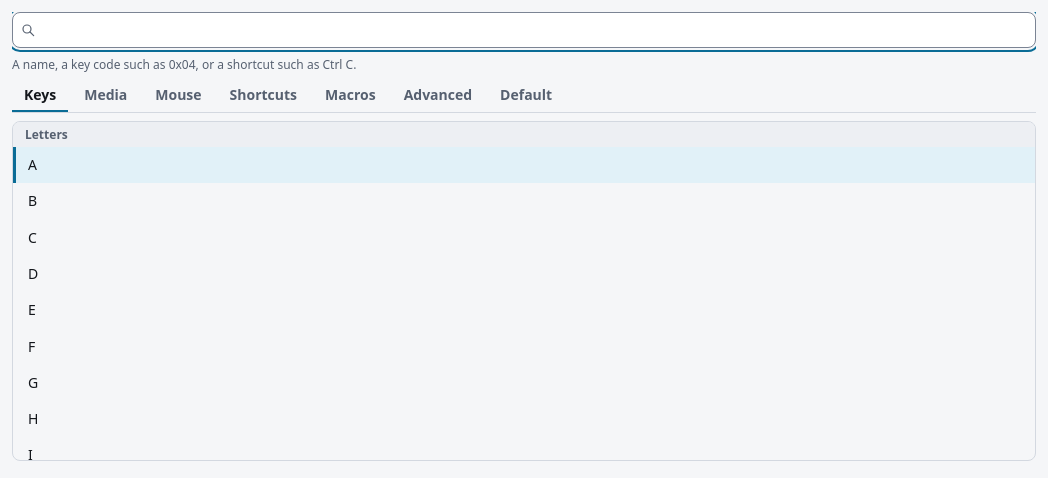
Test case: the action picker › marks advanced keys on the Fn layer as not yet verified (the binding rule)
Step 1. Click the tab "Advanced" → (438, 97), box [392,81,484,112]
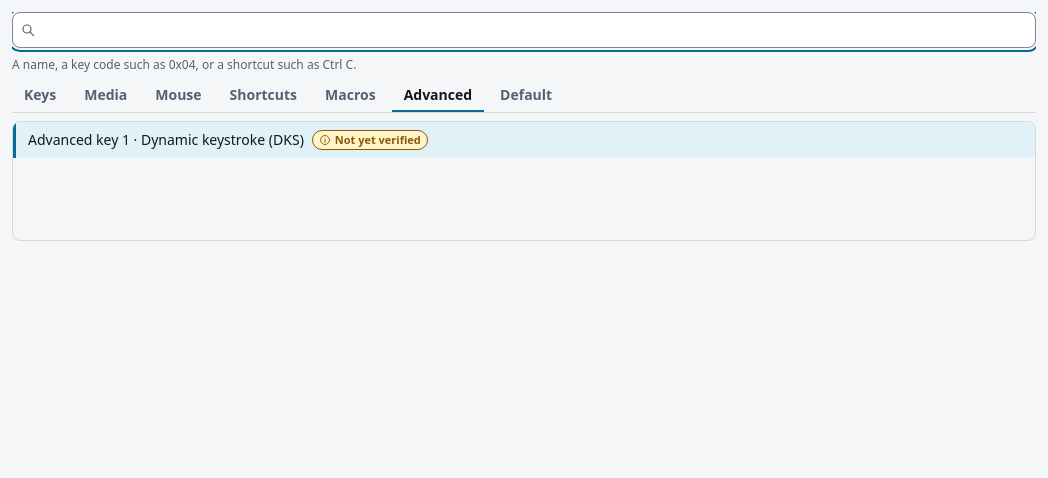
Now the option shows "Not yet verified", box [13,122,1035,158]
